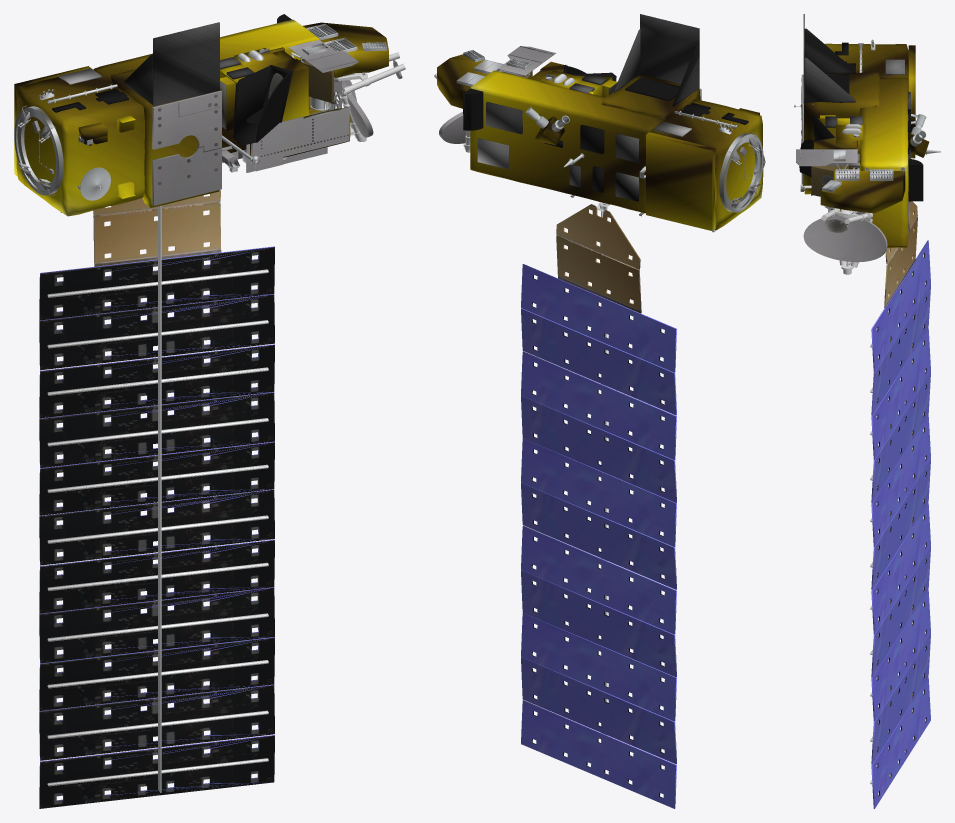
File: aura-b.glb
The picture shows the model from 3 angles, left to right: view 1: azimuth 30°, elevation 25°; view 2: azimuth 150°, elevation 25°; view 3: azimuth 270°, elevation 25°; orthographic projection. The views are drawn at different scales.
Visible parts, largest first — view 1: tex_01, foil_gold, shiny_panel, foil_silver, black_krinkle, tex_01d; view 2: shiny_panel, foil_gold, tex_01, foil_silver, black_krinkle; view 3: shiny_panel, foil_gold, tex_01, foil_silver, black_krinkle, tex_01d.
Part boxes in pixels (<box>): tex_01: <box>14,24,402,808</box>; foil_gold: <box>14,19,388,216</box>; shiny_panel: <box>39,246,274,808</box>; foil_silver: <box>59,22,254,106</box>; black_krinkle: <box>52,14,293,145</box>; tex_01d: <box>290,52,405,141</box>; shiny_panel: <box>521,264,676,808</box>; foil_gold: <box>437,54,763,230</box>; tex_01: <box>439,46,765,798</box>; foil_silver: <box>477,14,699,201</box>; black_krinkle: <box>463,65,748,192</box>; shiny_panel: <box>871,240,930,808</box>; foil_gold: <box>804,43,929,247</box>; tex_01: <box>794,39,940,796</box>; foil_silver: <box>803,14,910,232</box>; black_krinkle: <box>799,42,923,201</box>; tex_01d: <box>821,165,872,274</box>.
Size of the model in its own units: 8.73 by 18.7 by 3.43.
Materials: 6 (4 with a texture image).
